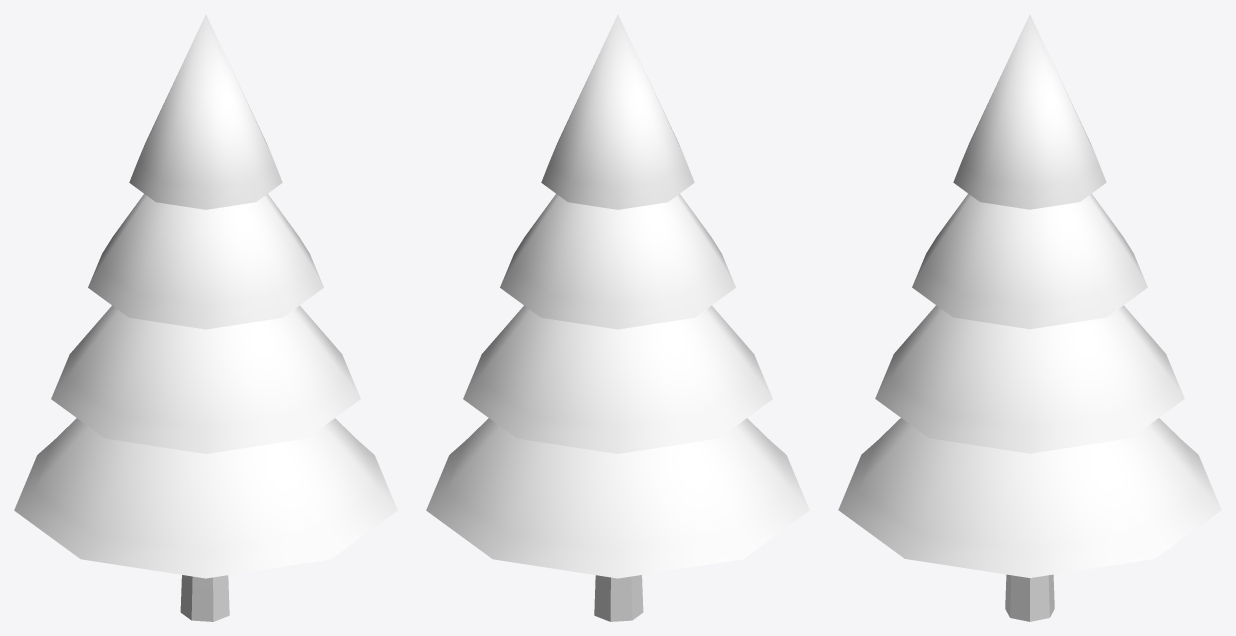
Rendered from pine_tree.glb.
3 renders of one model, left to right at view 1: azimuth 30°, elevation 25°; view 2: azimuth 150°, elevation 25°; view 3: azimuth 270°, elevation 25°, orthographic.
Visible parts, largest first — view 1: PineTree; view 2: PineTree; view 3: PineTree.
Part boxes in pixels (x1,y1,x2,y2): PineTree: [14, 14, 397, 621]; PineTree: [426, 14, 809, 621]; PineTree: [838, 14, 1221, 621].
Size of the model in its own units: 2.52 by 4.4 by 2.56.
1 material, 1 textured.
